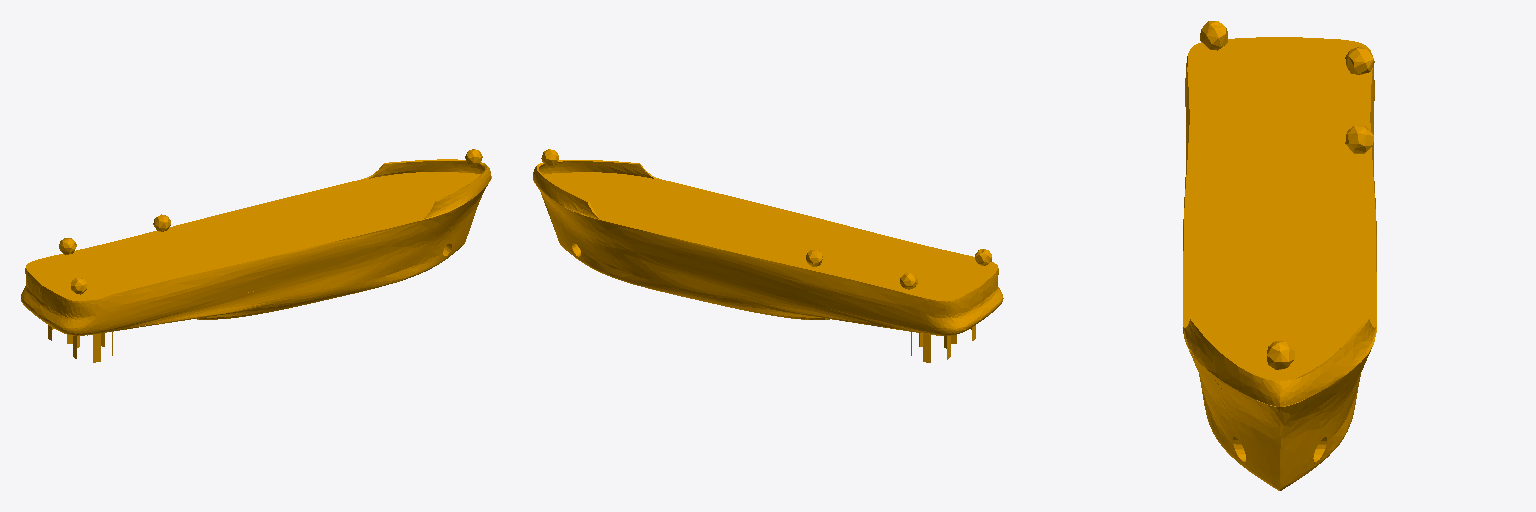
URDF robot description (cybership_enterprise):
<?xml version="1.0"?>
<robot xmlns:xacro="http://www.ros.org/wiki/xacro" name="cybership_enterprise">

    <link name="base_link">
        <visual>
            <origin
                xyz="0.05 0.0 0.05"
                rpy="1.5707963267948966 0.0 1.5707963267948966"
            />

            <geometry>
                <mesh
                    filename="package://cybership_description/meshes/cs_enterprise_1_model_lowpoly.dae"
                    scale="0.01 0.01 0.01"
                    />

            </geometry>
        </visual>
    </link>

    <link name="imu_link">
    </link>

    <link name="stern_port_thruster_link"/>
    <joint name="base_stern_port_thruster_joint" type="fixed">
        <parent link="base_link"/>
        <child link="stern_port_thruster_link"/>
        <origin xyz="-0.4574 0.055 -0.1" rpy="0 0 0"/>
    </joint>

    <link name="stern_starboard_thruster_link"/>
    <joint name="stern_starboard_thruster_joint" type="fixed">
        <parent link="base_link"/>
        <child link="stern_starboard_thruster_link"/>
        <origin xyz="-0.4574 -0.055 -0.1" rpy="0 0 0"/>
    </joint>

    <link name="bow_tunnel_thruster_link"/>
    <joint name="bow_tunnel_thruster_joint" type="fixed">
        <parent link="base_link"/>
        <child link="bow_tunnel_thruster_link"/>
        <origin xyz="0.3875 0 -0.05" rpy="0 0 1.5707963267948966"/>
    </joint>

    <joint name="imu_joint" type="fixed">
        <parent link="base_link"/>
        <child link="imu_link"/>
        <origin xyz="0.4 0 0.1" rpy="0 0 0"/>
    </joint>
</robot>

--- What the picture shows (computed from the rendered views, not written in the file) ---
3 views of the same robot in one strip: view 1: azimuth 30°, elevation 25°; view 2: azimuth 150°, elevation 25°; view 3: azimuth 270°, elevation 25° (orthographic).
Model cybership_enterprise with 5 links and 4 joints (4 fixed), rooted at base_link, posed every joint at zero.
Visible links, largest first — view 1: base_link; view 2: base_link; view 3: base_link.
Link boxes in pixels (x1,y1,x2,y2): base_link: (21,149,491,362); base_link: (533,149,1003,362); base_link: (1183,21,1376,490).
Size in the robot's own frame: 1.1 by 0.2419 by 0.231 metres.
Meshes: 1 distinct files referenced, 1 mesh visuals loaded (1 Collada DAE).